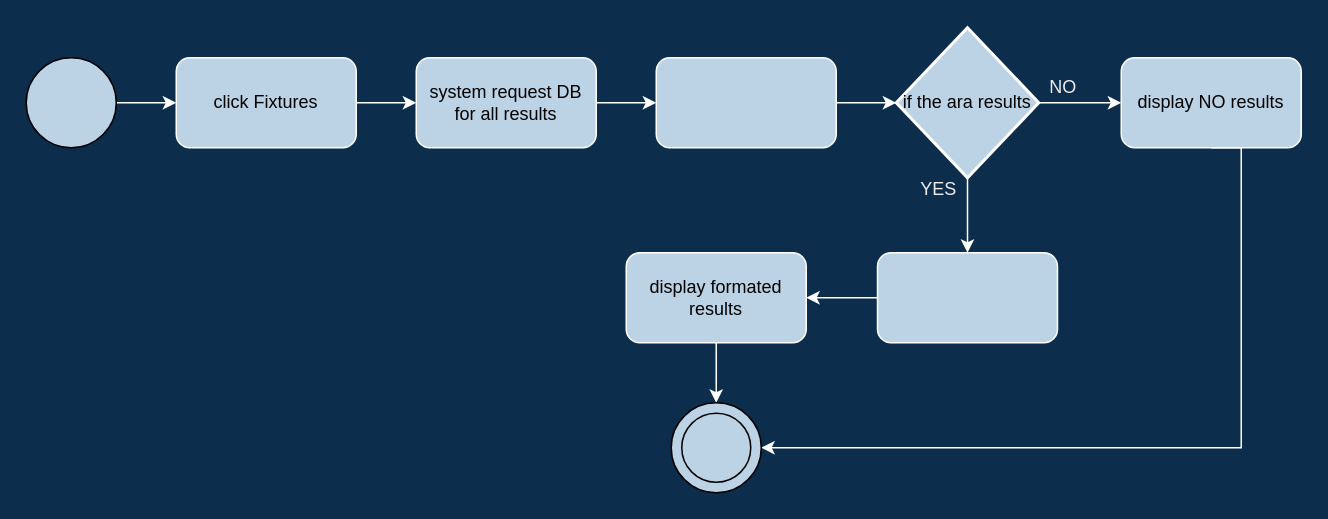
Some shapes in this 1328 by 519 pixel diagram are drawn without their labels. Each missing label, with the box of its shape:
chek on responsed data(date,teams,final score): (655, 56, 836, 148)
format results: (876, 251, 1058, 343)
